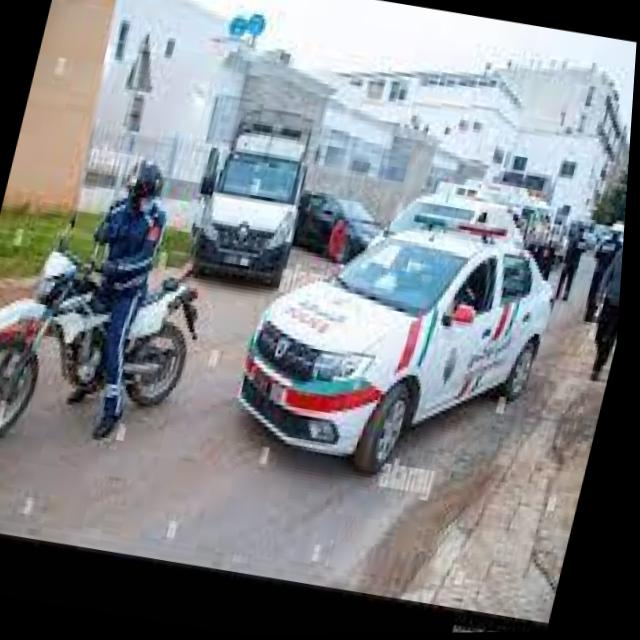Police car: (216, 153, 588, 507)
